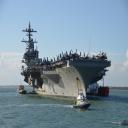Portanaves: (20, 21, 113, 103)
